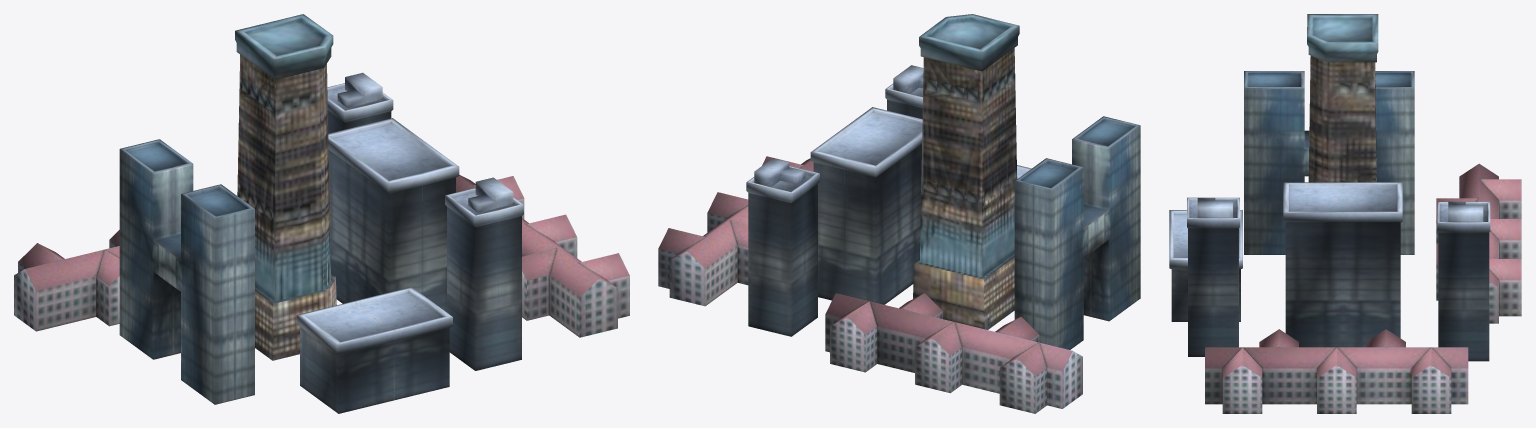
The model's file is city_postmodern_1.glb.
3 renders of one model, left to right at view 1: azimuth 30°, elevation 25°; view 2: azimuth 150°, elevation 25°; view 3: azimuth 270°, elevation 25°, orthographic. The views are drawn at different scales.
Parts seen in each view (by area): view 1: 16_low.024, 16_low.028, 16_low.026, 16_low.025, 16_low.030, 16_low.029, 16_low.023, 16_low.027; view 2: 16_low.028, 16_low.024, 16_low.026, 16_low.023, 16_low.027, 16_low.029, 16_low.030; view 3: 16_low.026, 16_low.029, 16_low.024, 16_low.028, 16_low.027, 16_low.030, 16_low.023, 16_low.025.
Boxes of the visible parts, bbox=[...] form: 16_low.024: bbox=[119, 139, 254, 404]; 16_low.028: bbox=[235, 14, 336, 360]; 16_low.026: bbox=[328, 118, 459, 312]; 16_low.025: bbox=[296, 287, 452, 413]; 16_low.030: bbox=[445, 177, 523, 370]; 16_low.029: bbox=[456, 175, 629, 337]; 16_low.023: bbox=[14, 230, 119, 331]; 16_low.027: bbox=[327, 72, 393, 133]; 16_low.028: bbox=[913, 14, 1019, 329]; 16_low.024: bbox=[1014, 116, 1140, 349]; 16_low.026: bbox=[810, 107, 922, 304]; 16_low.023: bbox=[825, 293, 1082, 413]; 16_low.027: bbox=[746, 158, 819, 336]; 16_low.029: bbox=[658, 156, 813, 306]; 16_low.030: bbox=[885, 65, 923, 119]; 16_low.026: bbox=[1283, 182, 1402, 347]; 16_low.029: bbox=[1205, 329, 1468, 413]; 16_low.024: bbox=[1244, 71, 1414, 254]; 16_low.028: bbox=[1307, 14, 1378, 182]; 16_low.027: bbox=[1437, 201, 1490, 361]; 16_low.030: bbox=[1187, 197, 1239, 356]; 16_low.023: bbox=[1436, 163, 1521, 323]; 16_low.025: bbox=[1169, 210, 1242, 321].
Size of the model in its own units: 1.98 by 1.22 by 1.46.
4 materials, 4 textured.
